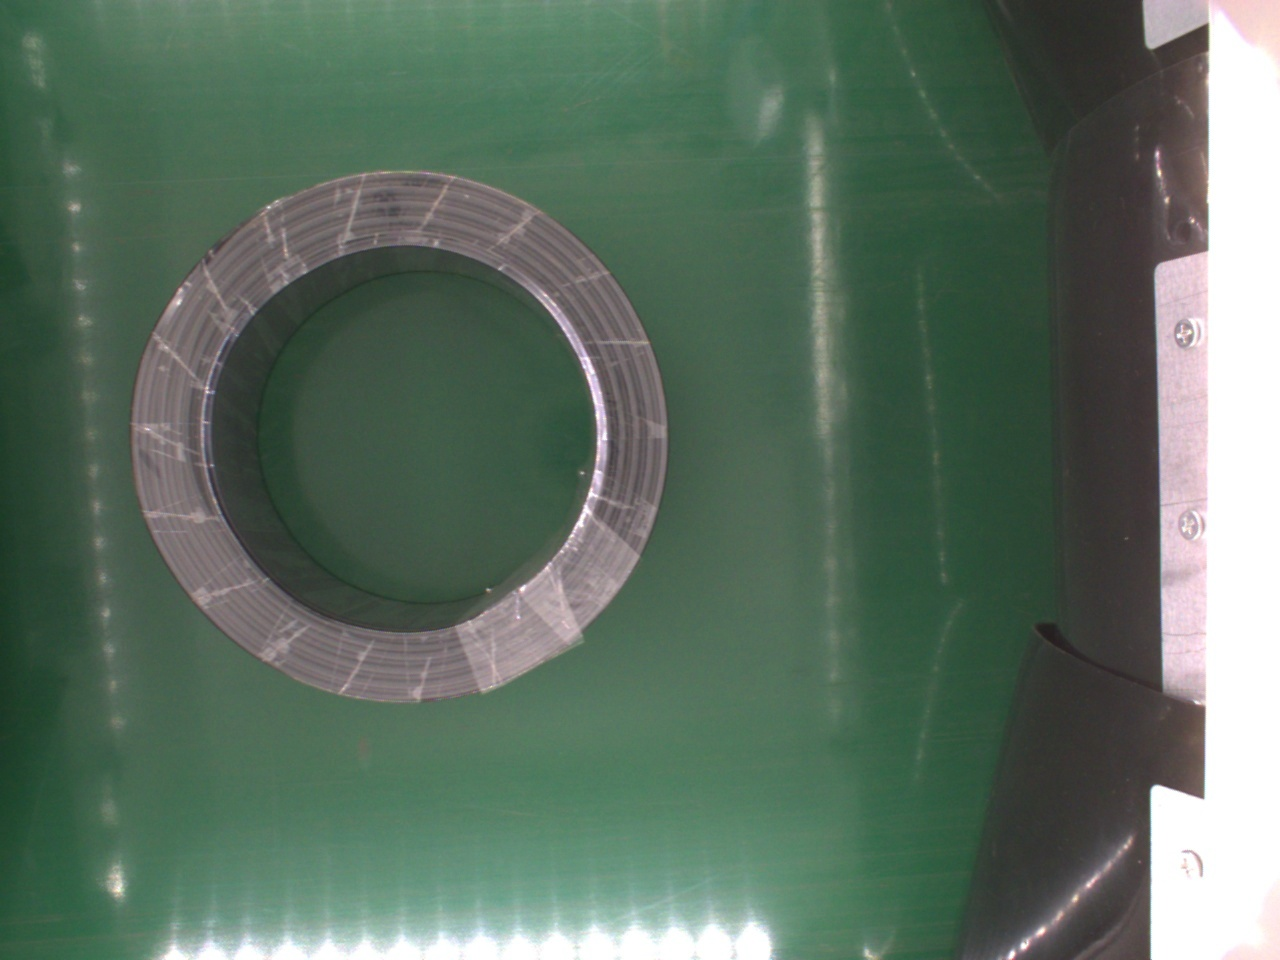black: (132, 172, 665, 702)
